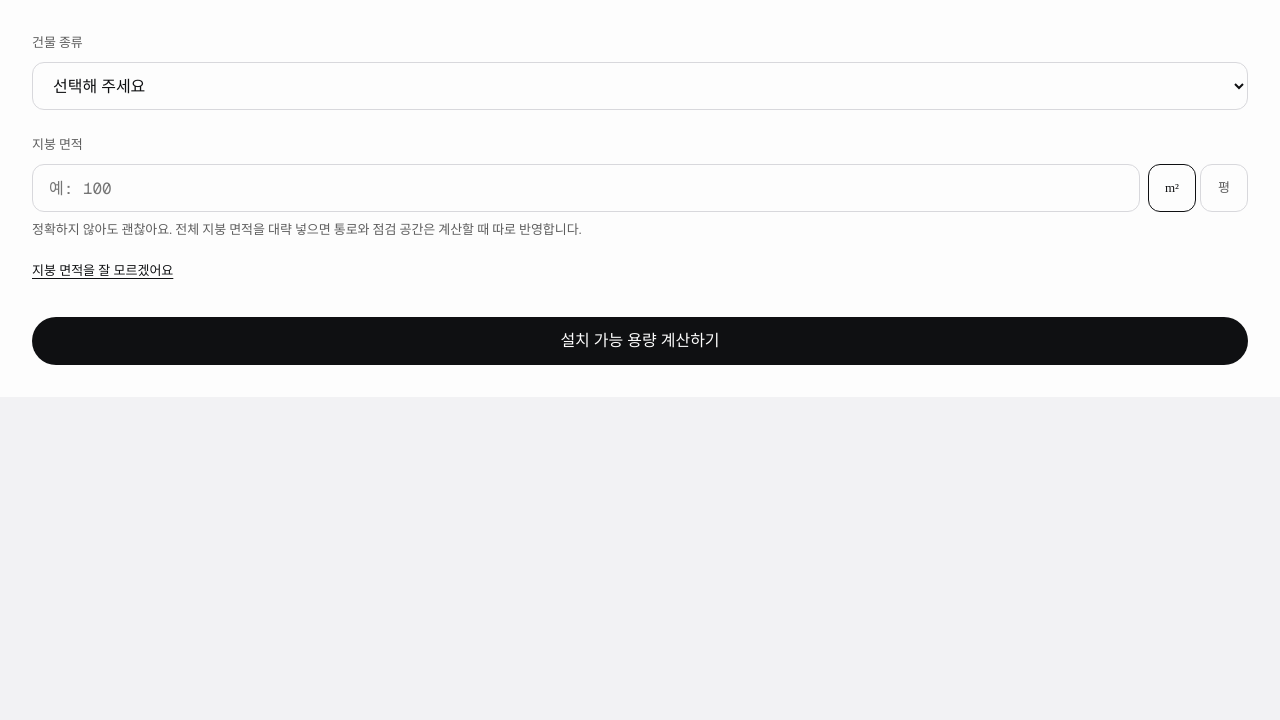
Test: SolarCalculator › accepts decimal roof areas and submits as a form
Select "주택" in the dropdown labelled "건물 종류" at (640, 86), box [32, 62, 1248, 110]
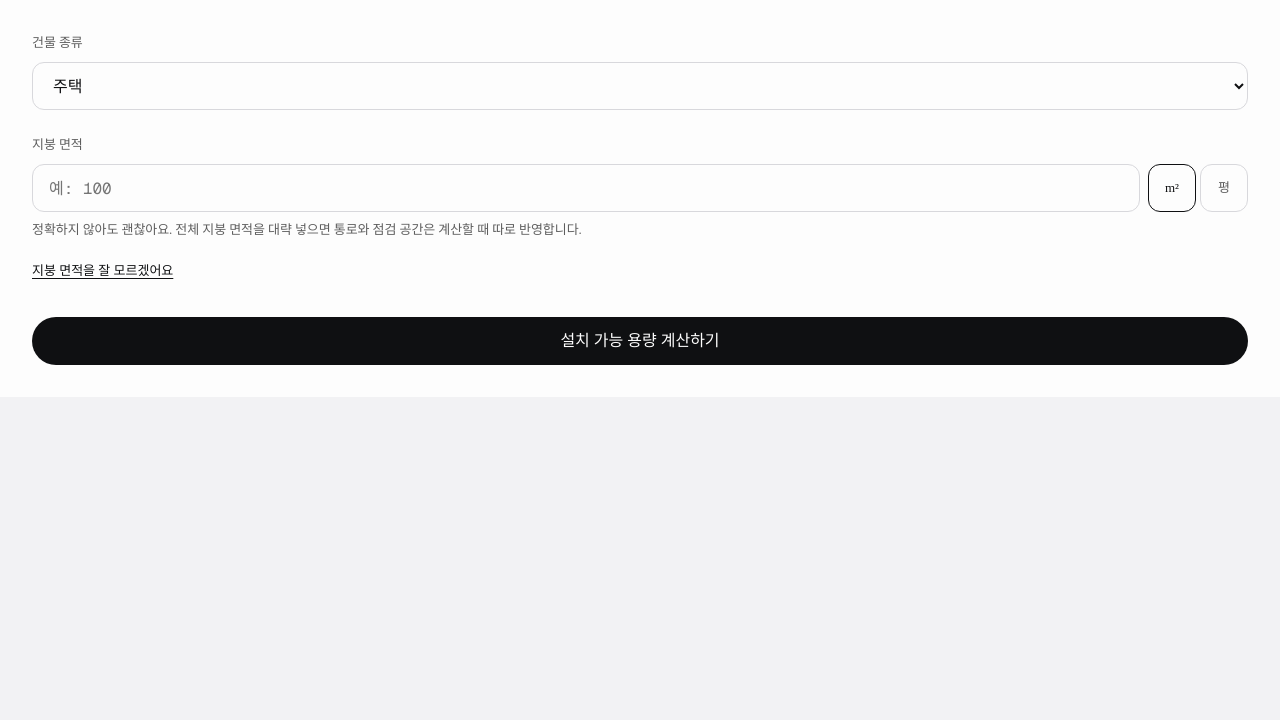
Type "10.5" into the number field labelled "지붕 면적" at (586, 188), box [32, 164, 1140, 212]
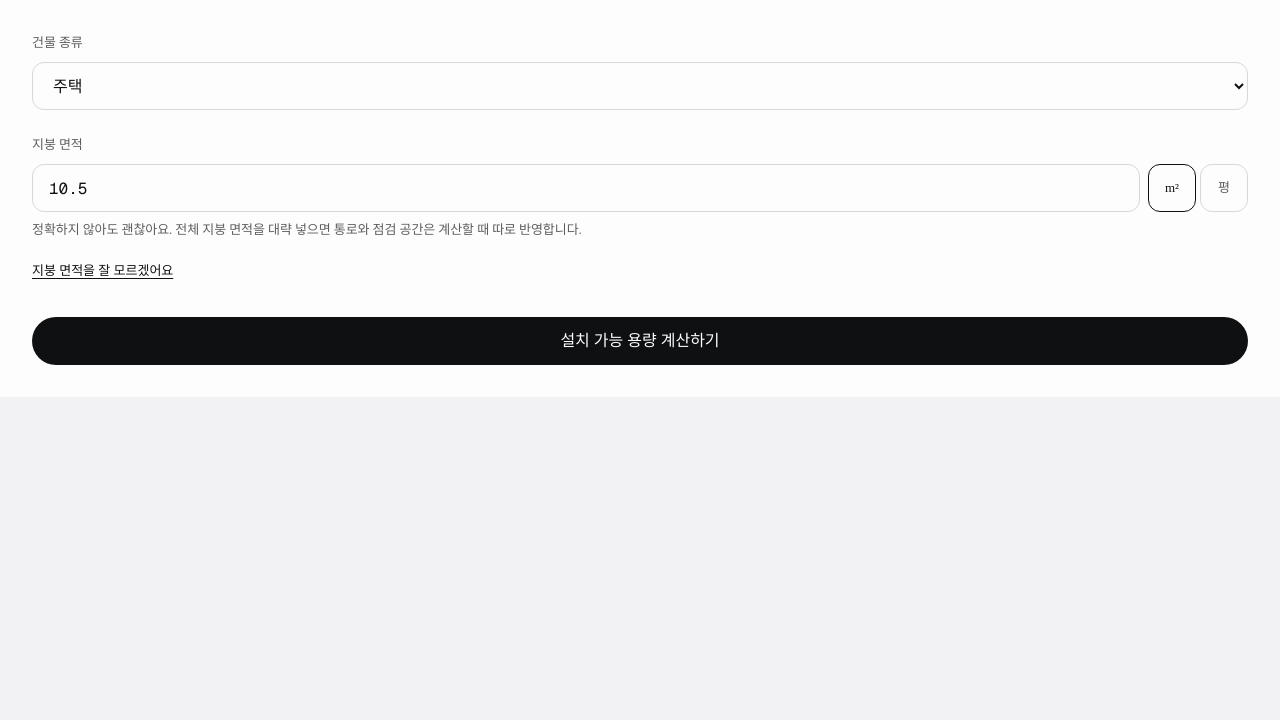
Submit the form named "설치 가능 용량 계산하기", box [0, 0, 1279, 397]
(page scrolled)
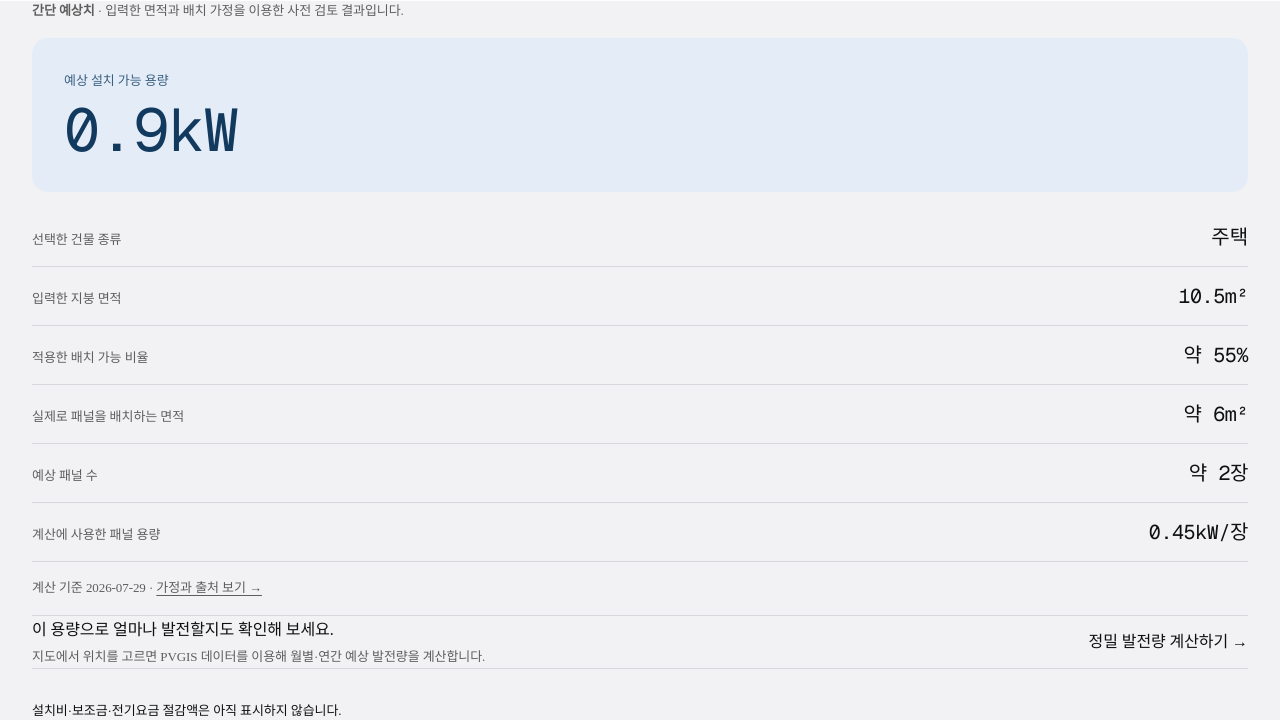
Expected: the text "예상 설치 가능 용량" is shown, [64, 73, 169, 88]
Expected: the text "10.5m²" is shown, [1178, 279, 1248, 313]
